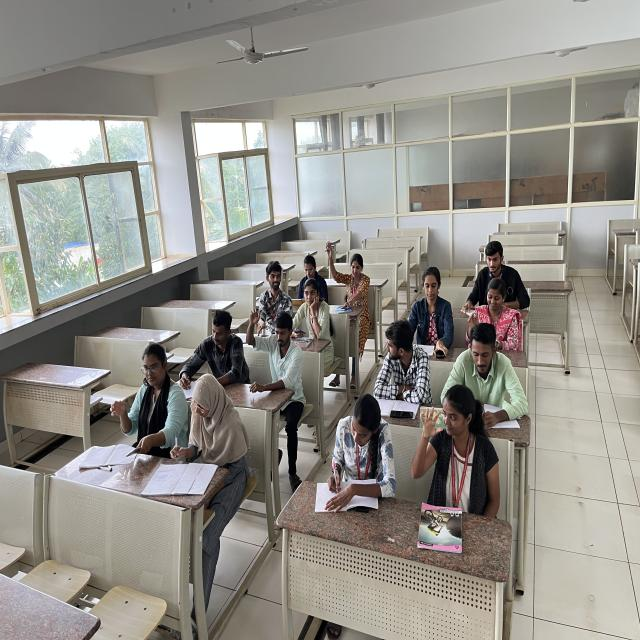Hand Rising: (420, 388, 489, 495), (246, 306, 298, 376), (326, 238, 371, 303)
Reading: (282, 254, 325, 304)
Using Phone: (291, 279, 328, 344)
Writing: (167, 372, 232, 485), (324, 396, 389, 505), (176, 308, 247, 396)
